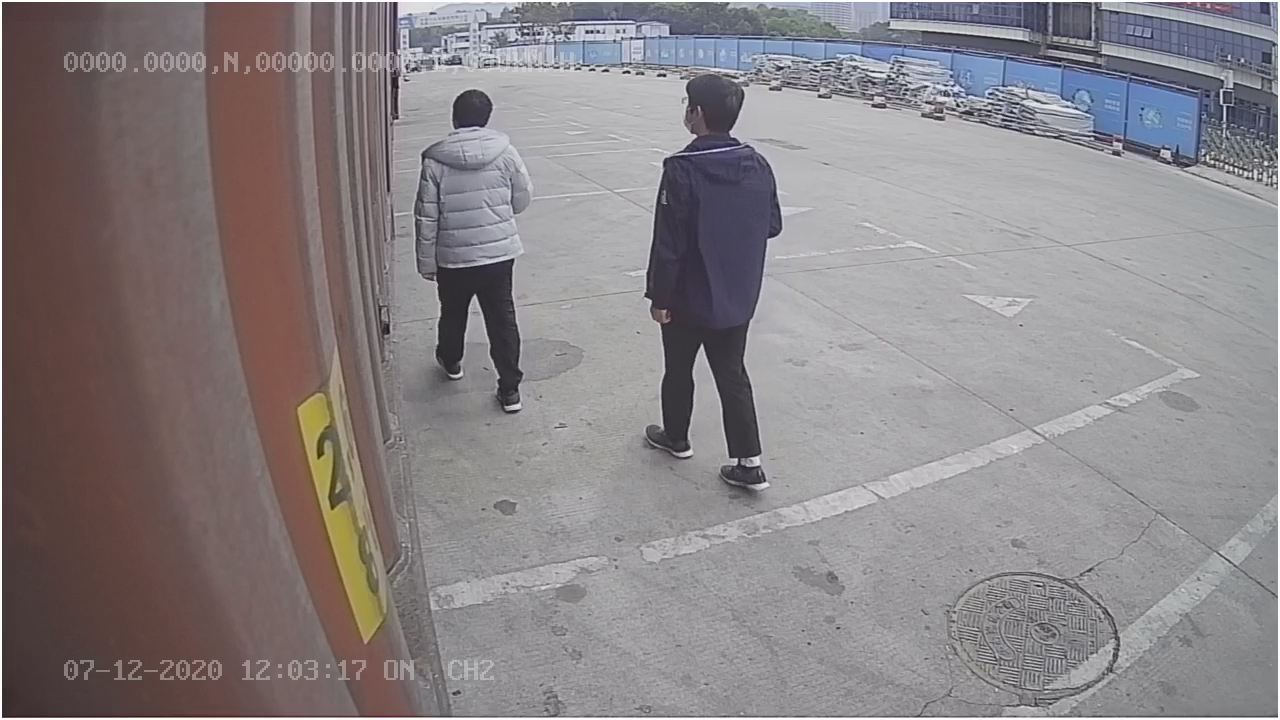person: (636, 67, 786, 500), (408, 87, 538, 412)
